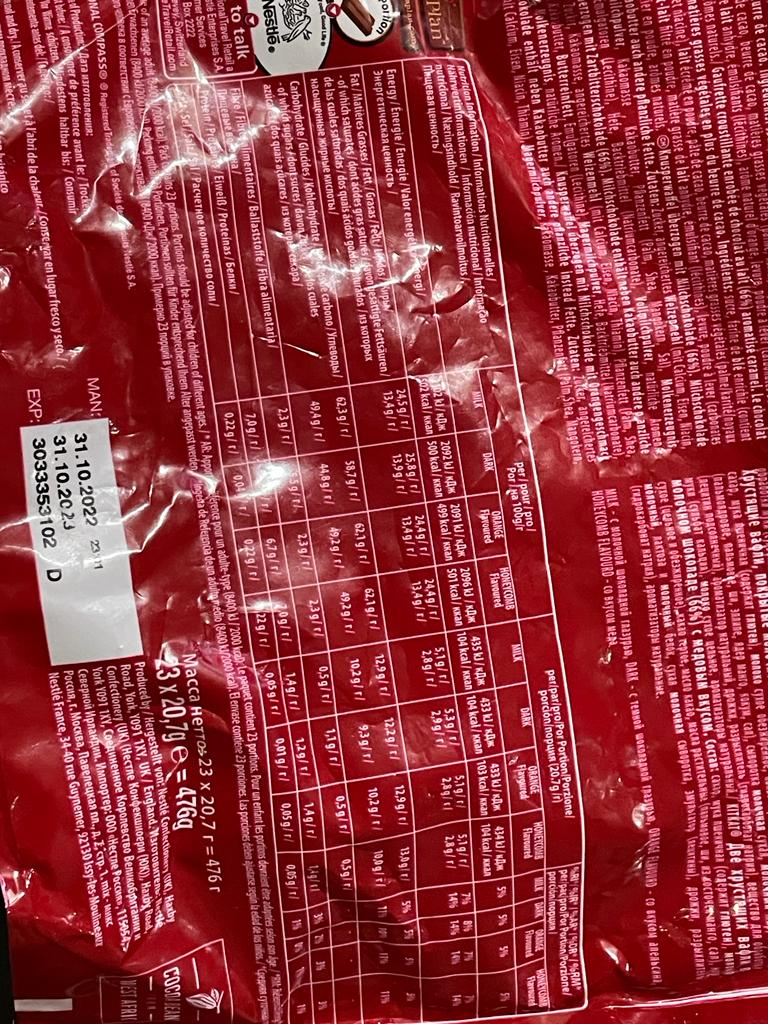table: (138, 57, 634, 1024)
